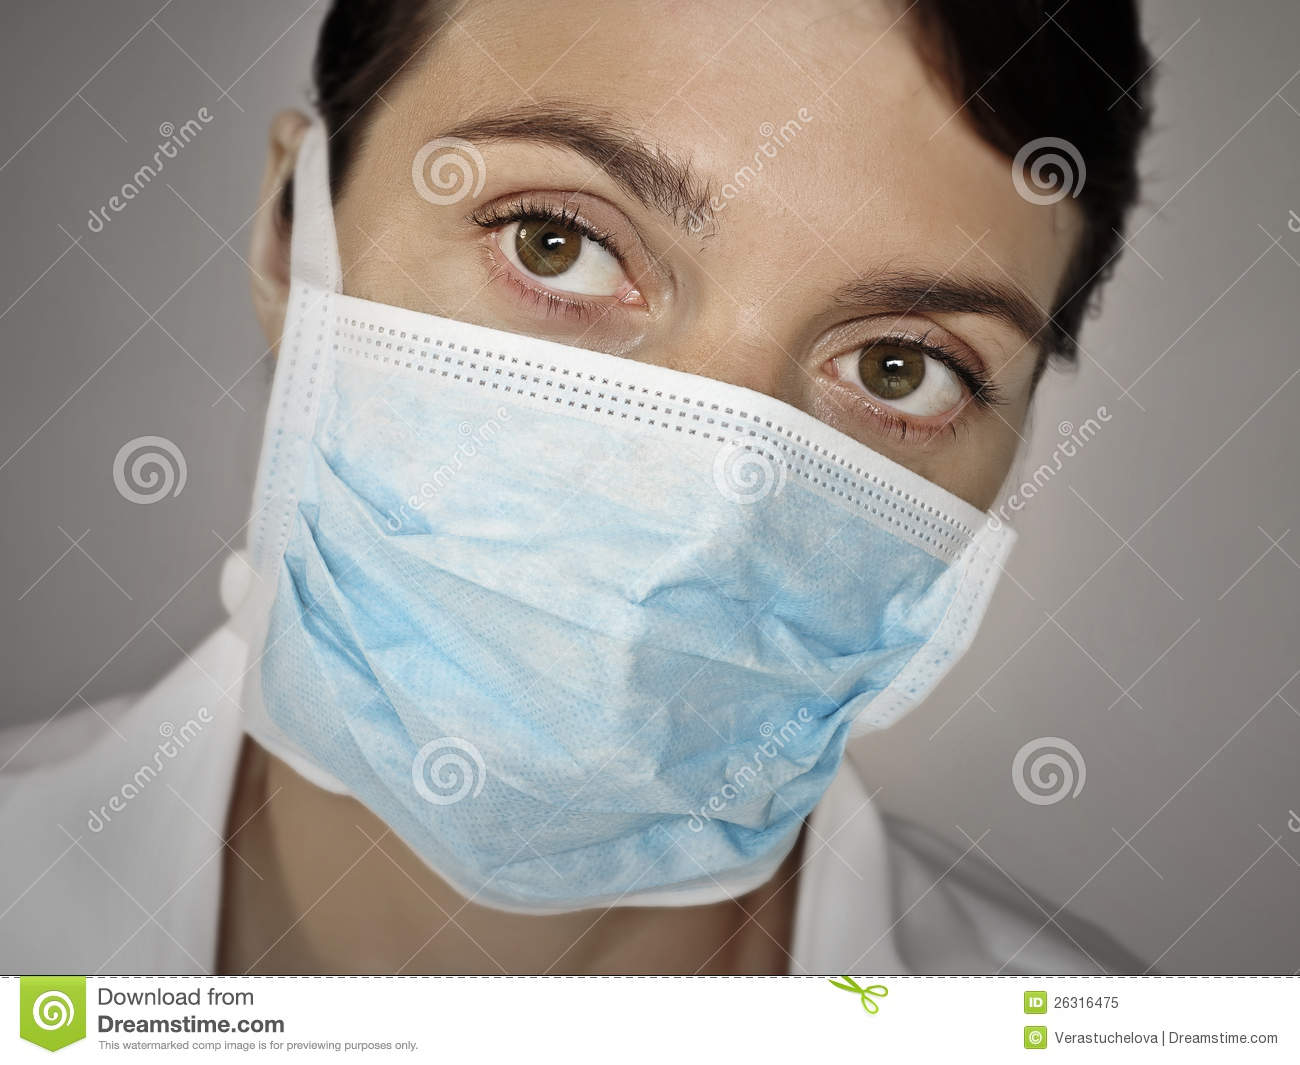mask: (252, 293, 1012, 914)
